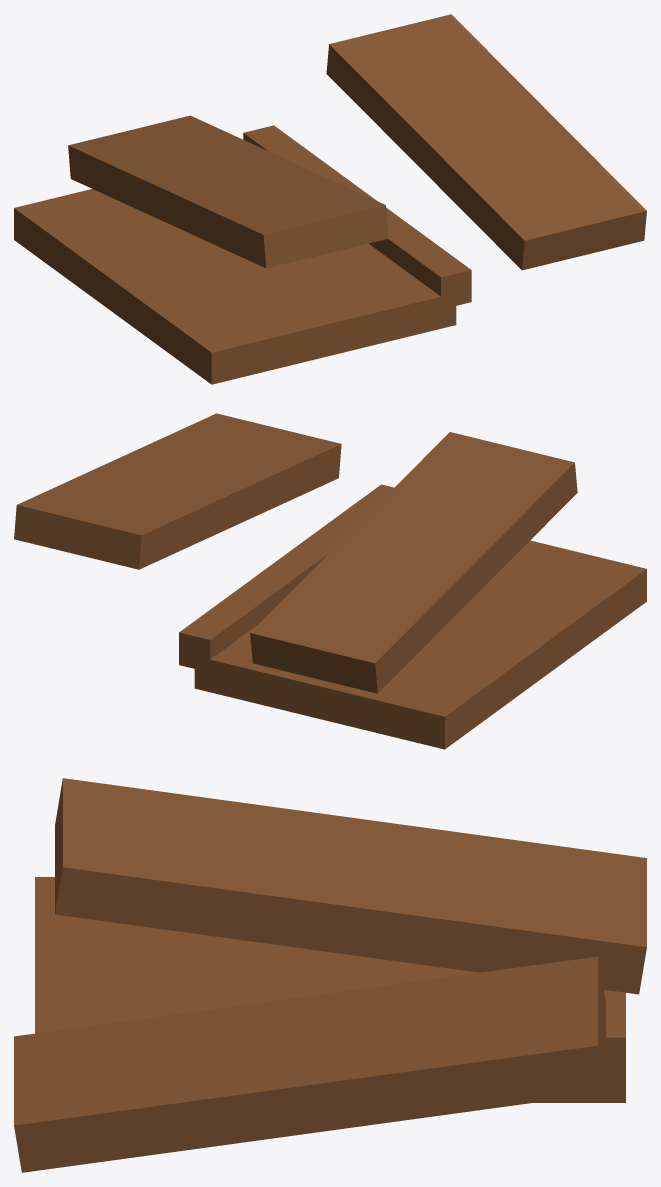
The picture shows the model from 3 angles, top to bottom: view 1: azimuth 30°, elevation 25°; view 2: azimuth 150°, elevation 25°; view 3: azimuth 270°, elevation 25°; orthographic projection. The views are drawn at different scales.
Size of the model in its own units: 0.7 by 0.2001 by 0.6.
